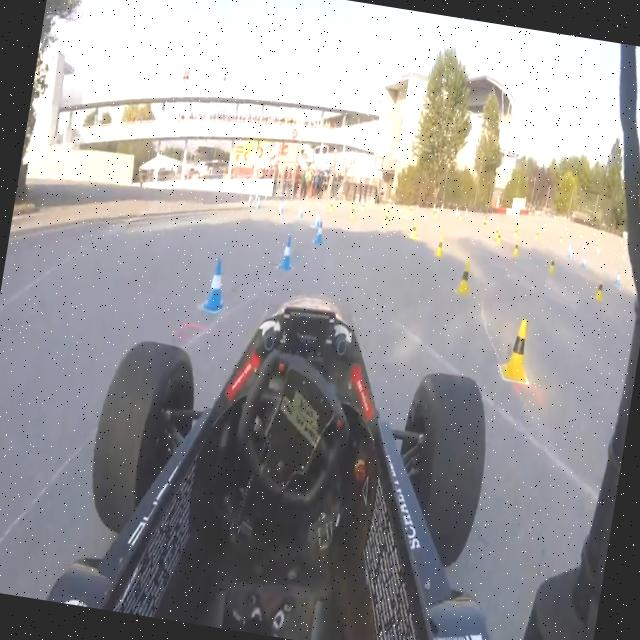blue_cone: (202, 254, 235, 314), (277, 232, 298, 272), (312, 220, 328, 248), (312, 210, 322, 230), (613, 270, 622, 288), (278, 200, 286, 218), (255, 197, 263, 212), (581, 256, 588, 272), (568, 248, 575, 261), (298, 205, 304, 220), (248, 193, 254, 205)
yellow_cone: (500, 316, 537, 388), (456, 259, 474, 298), (434, 232, 446, 258), (594, 279, 606, 303), (547, 255, 557, 278), (408, 221, 418, 241), (383, 212, 390, 228), (512, 242, 520, 256), (349, 205, 356, 220), (494, 226, 501, 240), (496, 231, 502, 246), (329, 201, 335, 213), (512, 227, 518, 238), (535, 229, 540, 241)
